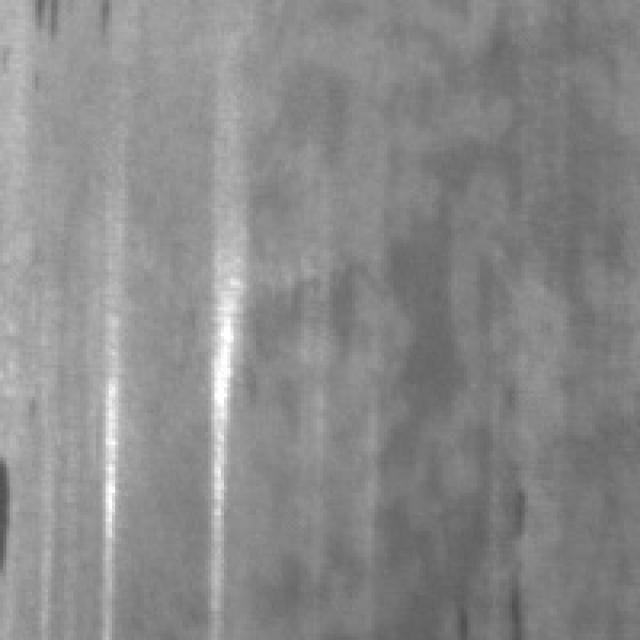scratches: (192, 163, 253, 624), (86, 278, 128, 628)
